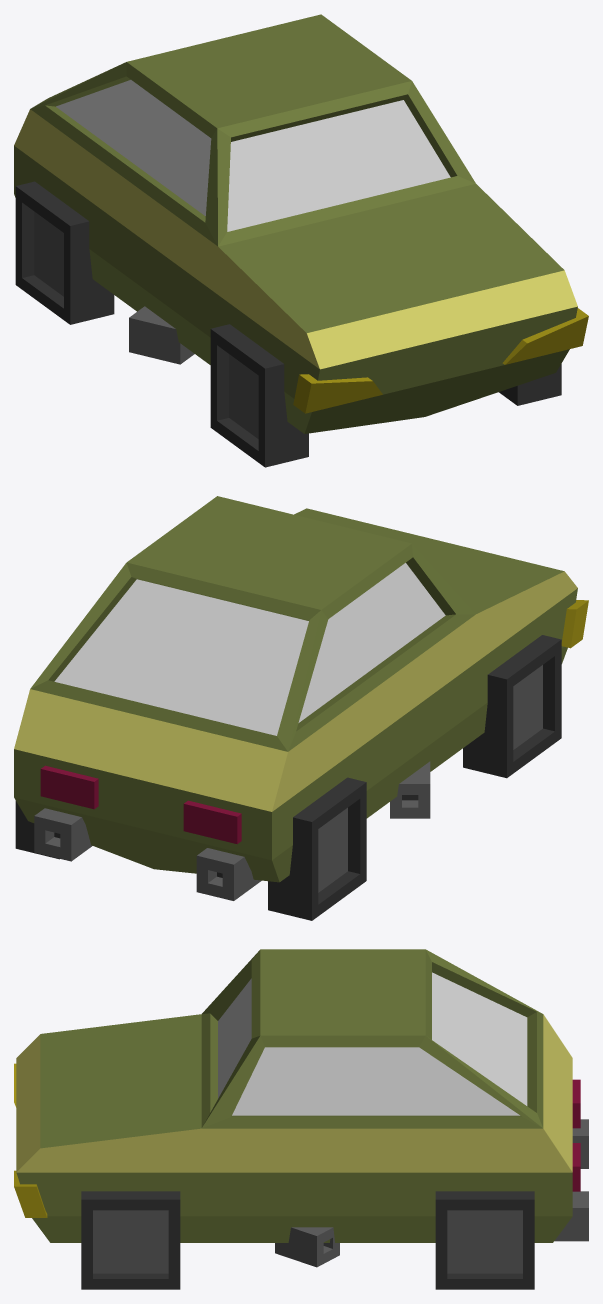
Rendered from car_7.fbx.
The picture shows the model from 3 angles, top to bottom: view 1: azimuth 30°, elevation 25°; view 2: azimuth 150°, elevation 25°; view 3: azimuth 270°, elevation 25°; orthographic projection. The views are drawn at different scales.
Visible parts, largest first — view 1: Cube; view 2: Cube; view 3: Cube.
Boxes of the visible parts, x1=… form: Cube: x1=14, y1=14, x2=588, y2=467; Cube: x1=14, y1=496, x2=588, y2=920; Cube: x1=14, y1=949, x2=588, y2=1289.
Size of the model in its own units: 145 by 118 by 265.
